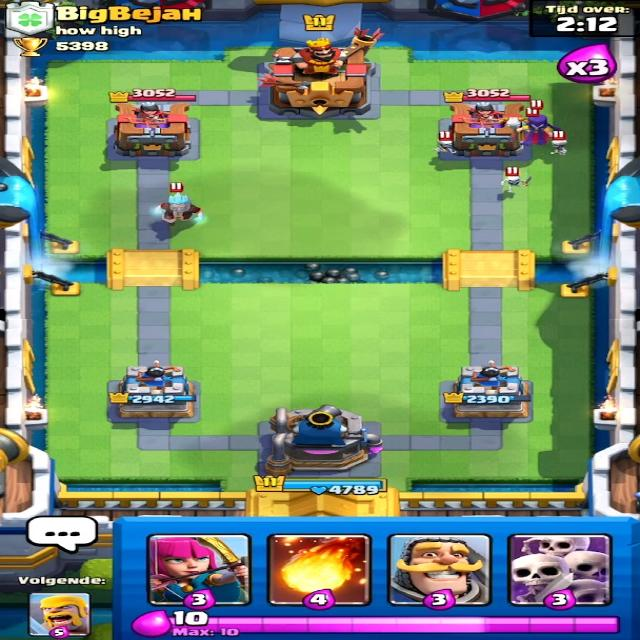Enemy_Ice_Wizard_Troop: (155, 192, 211, 230)
Enemy_Skeleton_Troop: (500, 172, 537, 194), (430, 137, 458, 157), (550, 139, 569, 155)
Enemy_Witch_Troop: (514, 112, 562, 152)
Fireball_Card: (272, 536, 362, 602)
